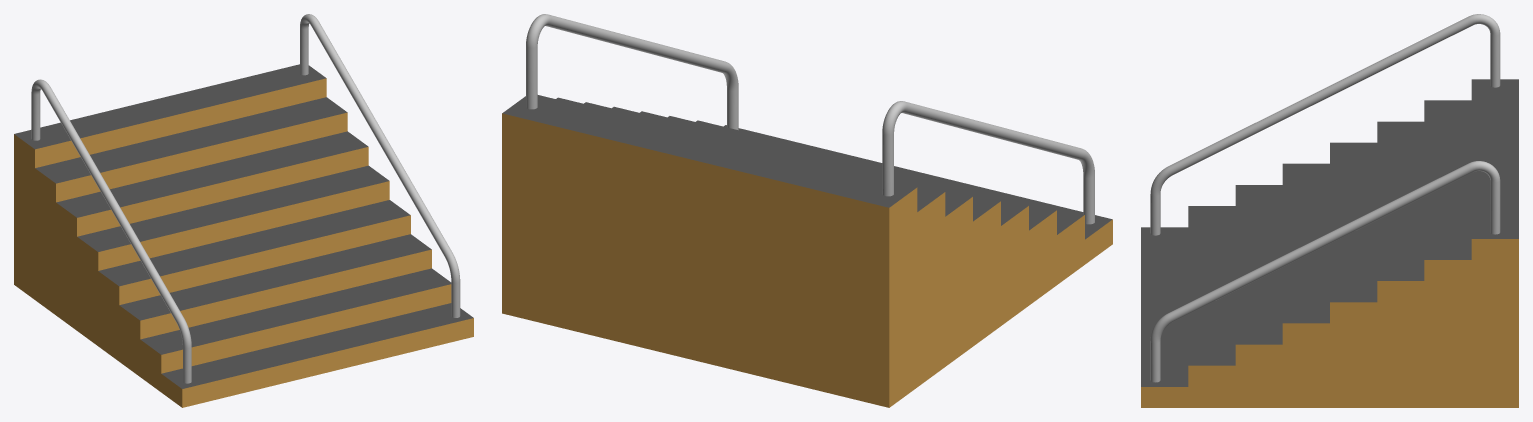
Rendered from Skate_Stairs_Handrail_Double_01.FBX.
3 views of the same model, side by side, from view 1: azimuth 30°, elevation 25°; view 2: azimuth 150°, elevation 25°; view 3: azimuth 270°, elevation 25° (orthographic). The views are drawn at different scales.
Visible parts, largest first — view 1: Skate_Stairs_Handrail_Double_01; view 2: Skate_Stairs_Handrail_Double_01; view 3: Skate_Stairs_Handrail_Double_01.
Part boxes in pixels (box(x1,y1,x2,y2)): Skate_Stairs_Handrail_Double_01: box(14, 14, 473, 407); Skate_Stairs_Handrail_Double_01: box(502, 14, 1112, 407); Skate_Stairs_Handrail_Double_01: box(1141, 14, 1518, 407).
Bounding box in the file's own units: 3 × 2.1 × 3.
